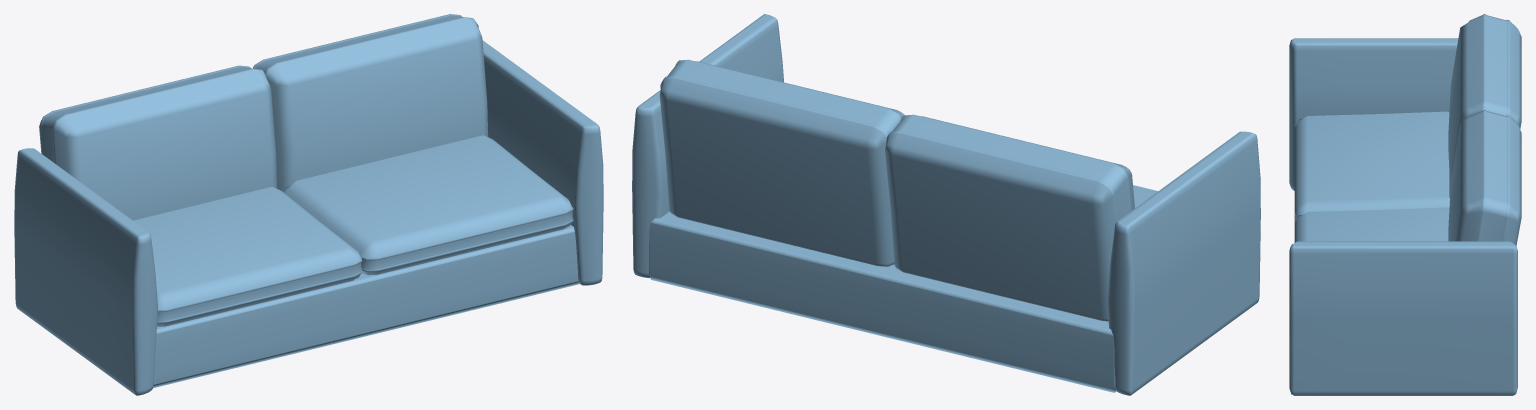
File: Sofa.fbx
The picture shows the model from 3 angles, left to right: view 1: azimuth 30°, elevation 25°; view 2: azimuth 150°, elevation 25°; view 3: azimuth 270°, elevation 25°; orthographic projection. The views are drawn at different scales.
Visible parts, largest first — view 1: pCube7, pCube8, pCube10, pCube1; view 2: pCube7, pCube10, pCube1; view 3: pCube10, pCube8, pCube7.
Boxes of the visible parts, <box> form: pCube7: <box>39,14,488,220</box>; pCube8: <box>133,135,573,326</box>; pCube10: <box>14,40,603,395</box>; pCube1: <box>153,225,579,388</box>; pCube7: <box>659,59,1134,321</box>; pCube10: <box>632,14,1260,395</box>; pCube1: <box>648,211,1115,392</box>; pCube10: <box>1289,38,1517,395</box>; pCube8: <box>1294,111,1449,242</box>; pCube7: <box>1448,14,1521,245</box>.
Bounding box in the file's own units: 6.3 × 2.54 × 2.89.
